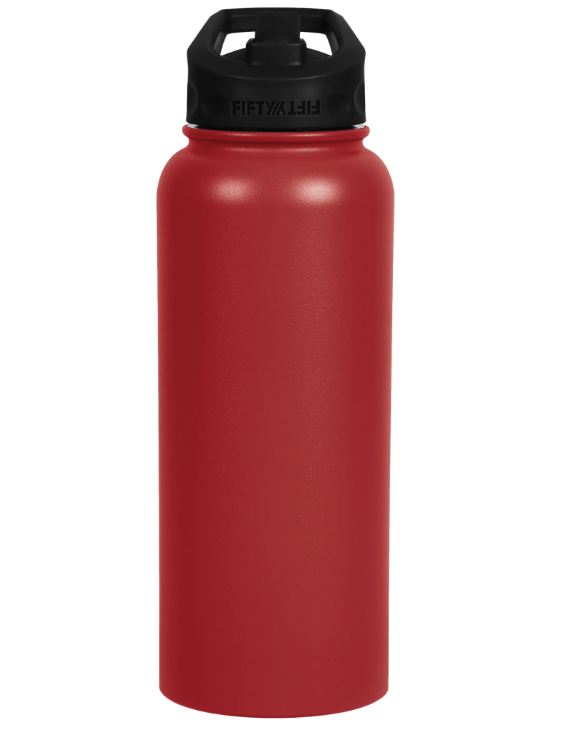bottle: (152, 2, 399, 719)
